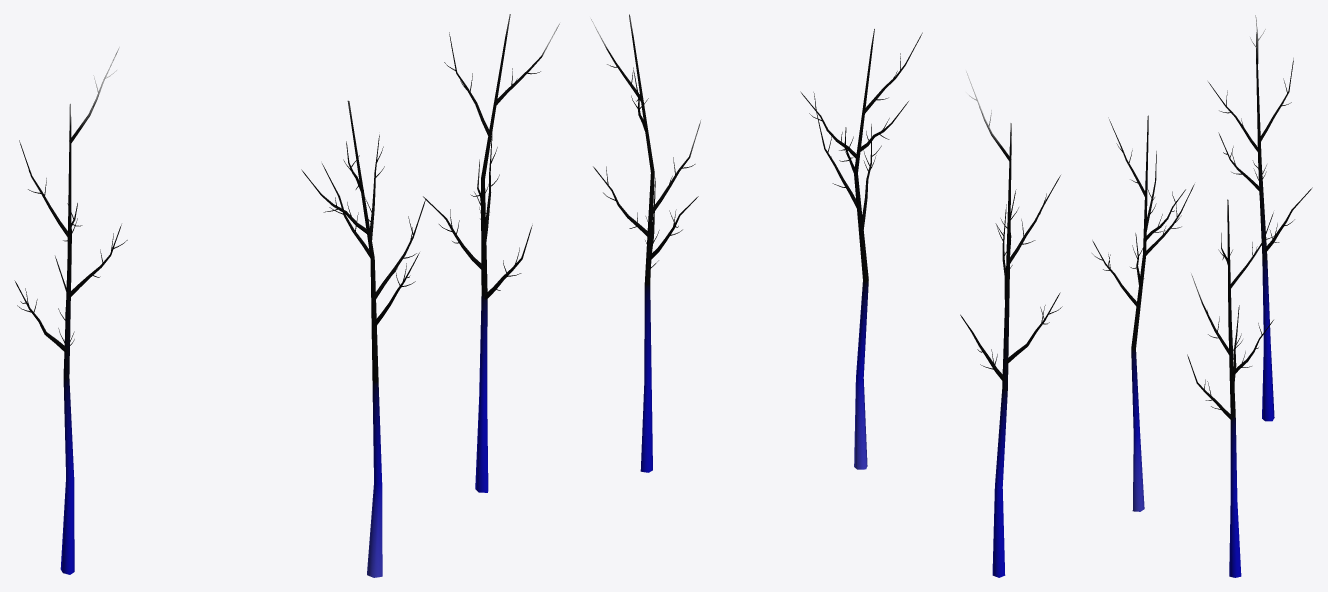
Rendered from SM_Bush_04.fbx.
The picture shows the model from 3 angles, left to right: view 1: azimuth 30°, elevation 25°; view 2: azimuth 150°, elevation 25°; view 3: azimuth 270°, elevation 25°; orthographic projection. The views are drawn at different scales.
Parts seen in each view (by area): view 1: SM_Bush_04_LOD0; view 2: SM_Bush_04_LOD0; view 3: SM_Bush_04_LOD0.
Part boxes in pixels (<box>): SM_Bush_04_LOD0: <box>14,14,559,577</box>; SM_Bush_04_LOD0: <box>590,14,1062,577</box>; SM_Bush_04_LOD0: <box>1092,15,1312,577</box>.
Size of the model in its own units: 200 by 90.47 by 190.
